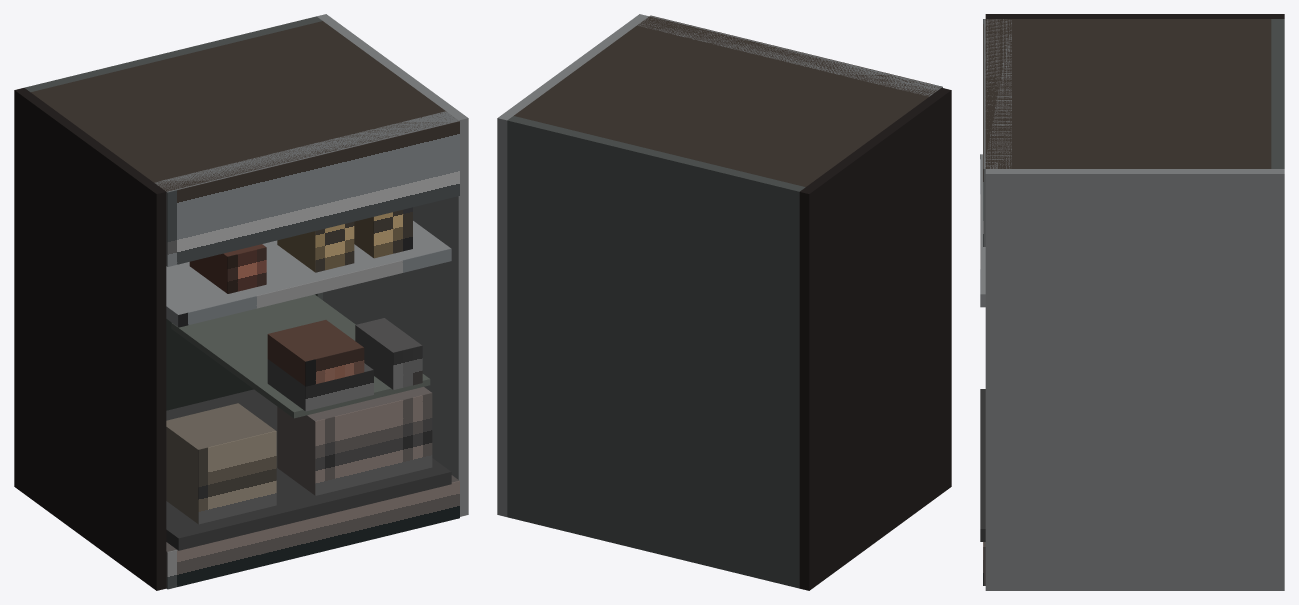
The model's file is CMU3DVendorWYGuardCloud.glb.
3 renders of one model, left to right at view 1: azimuth 30°, elevation 25°; view 2: azimuth 150°, elevation 25°; view 3: azimuth 270°, elevation 25°, orthographic. The views are drawn at different scales.
Visible parts, largest first — view 1: left full-depth cabinet wall, roof, silver guard header original face, right full-depth cabinet wall, lower guard plinth original face, lower grey ammunition case original face, hidden middle stock shelf, upper full-depth shelf, lower tan ammunition case original face, base shelf, lower tan ammunition case, silver guard header (+17 smaller); view 2: solid rear wall, left full-depth cabinet wall, roof, right full-depth cabinet wall, silver guard header; view 3: right full-depth cabinet wall, roof, silver guard header, solid rear wall, left full-depth cabinet wall, base shelf, upper full-depth shelf.
Boxes of the visible parts, left/top/right/bottom form: left full-depth cabinet wall: left=14, top=88, right=166, bottom=590; roof: left=31, top=21, right=453, bottom=191; silver guard header original face: left=167, top=121, right=459, bottom=266; right full-depth cabinet wall: left=317, top=14, right=468, bottom=516; lower guard plinth original face: left=167, top=481, right=459, bottom=589; lower grey ammunition case original face: left=315, top=393, right=432, bottom=495; hidden middle stock shelf: left=171, top=294, right=430, bottom=418; upper full-depth shelf: left=166, top=221, right=450, bottom=326; lower tan ammunition case original face: left=198, top=431, right=276, bottom=524; base shelf: left=166, top=389, right=450, bottom=549; lower tan ammunition case: left=166, top=403, right=275, bottom=523; silver guard header: left=155, top=111, right=459, bottom=266; solid rear wall: left=507, top=116, right=805, bottom=588; left full-depth cabinet wall: left=799, top=88, right=951, bottom=590; roof: left=514, top=16, right=940, bottom=186; right full-depth cabinet wall: left=497, top=14, right=648, bottom=516; silver guard header: left=638, top=16, right=942, bottom=96; right full-depth cabinet wall: left=985, top=169, right=1284, bottom=590; roof: left=985, top=19, right=1271, bottom=168; silver guard header: left=983, top=19, right=1011, bottom=246; solid rear wall: left=1271, top=19, right=1284, bottom=168; left full-depth cabinet wall: left=985, top=14, right=1284, bottom=18; base shelf: left=981, top=389, right=985, bottom=541; upper full-depth shelf: left=981, top=154, right=985, bottom=307.
Bounding box in the file's own units: 1 × 1.22 × 0.804.
35 materials, 13 textured.
